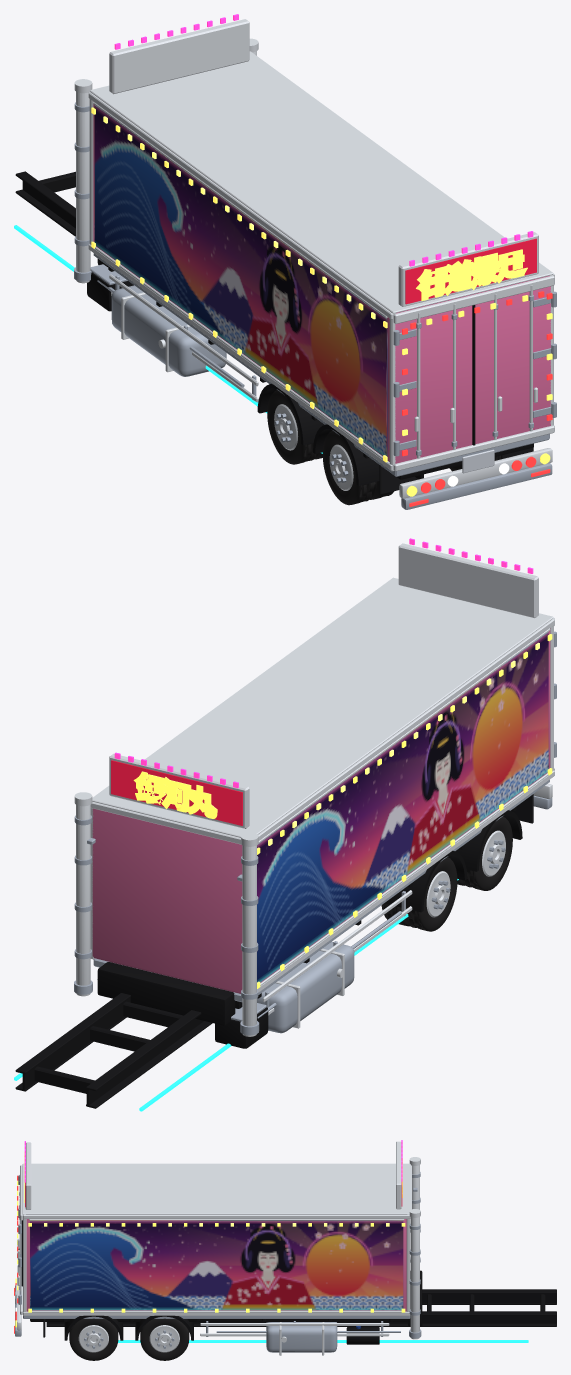
The model's file is body_pinkbox.glb.
The picture shows the model from 3 angles, top to bottom: view 1: azimuth 30°, elevation 25°; view 2: azimuth 150°, elevation 25°; view 3: azimuth 270°, elevation 25°; orthographic projection. The views are drawn at different scales.
Parts seen in each view (by area): view 1: truck_chrome, truck_mural, truck_box_pink, truck_steel, frame_plastic_black, frame_steel, truck_lamp_amber, wheel_r_L_1.5_1.06, wheel_r_L_3.0_1.06, truck_andon_panel, truck_lamp_red, truck_lamp_pink (+2 smaller); view 2: truck_chrome, truck_mural, truck_box_pink, frame_plastic_black, truck_plastic_black, frame_steel, truck_lamp_amber, truck_steel, truck_andon_panel, wheel_r_L_3.0_1.06, wheel_r_L_1.5_1.06, truck_lamp_pink (+1 smaller); view 3: truck_mural, truck_chrome, frame_plastic_black, frame_steel, truck_steel, wheel_r_R_1.5_1.06, wheel_r_R_3.0_1.06, truck_box_pink, frame_lamp_cyan, truck_lamp_amber, truck_plastic_black.
Boxes of the visible parts, left/top/right/bottom form: truck_chrome: left=74, top=19, right=554, bottom=498; truck_mural: left=94, top=105, right=387, bottom=456; truck_box_pink: left=93, top=104, right=550, bottom=463; truck_steel: left=74, top=102, right=556, bottom=509; frame_plastic_black: left=15, top=171, right=533, bottom=485; frame_steel: left=90, top=264, right=244, bottom=387; truck_lamp_amber: left=91, top=107, right=552, bottom=496; wheel_r_L_1.5_1.06: left=322, top=430, right=376, bottom=505; wheel_r_L_3.0_1.06: left=267, top=390, right=318, bottom=464; truck_andon_panel: left=405, top=238, right=536, bottom=304; truck_lamp_red: left=402, top=291, right=552, bottom=506; truck_lamp_pink: left=114, top=14, right=533, bottom=266; truck_chrome: left=74, top=543, right=554, bottom=1036; truck_mural: left=257, top=632, right=548, bottom=982; truck_box_pink: left=92, top=628, right=550, bottom=993; frame_plastic_black: left=15, top=810, right=522, bottom=1108; truck_plastic_black: left=97, top=806, right=516, bottom=1025; frame_steel: left=97, top=911, right=401, bottom=1033; truck_lamp_amber: left=133, top=634, right=552, bottom=988; truck_steel: left=74, top=631, right=556, bottom=1035; truck_andon_panel: left=111, top=760, right=242, bottom=825; wheel_r_L_3.0_1.06: left=405, top=857, right=457, bottom=931; wheel_r_L_1.5_1.06: left=461, top=816, right=512, bottom=890; truck_lamp_pink: left=114, top=538, right=533, bottom=788; truck_mural: left=30, top=1220, right=403, bottom=1310; truck_chrome: left=17, top=1141, right=420, bottom=1339; frame_plastic_black: left=30, top=1289, right=556, bottom=1344; frame_steel: left=216, top=1322, right=400, bottom=1352; truck_steel: left=15, top=1172, right=421, bottom=1338; wheel_r_R_1.5_1.06: left=69, top=1318, right=118, bottom=1360; wheel_r_R_3.0_1.06: left=140, top=1318, right=189, bottom=1360; truck_box_pink: left=26, top=1219, right=406, bottom=1311; frame_lamp_cyan: left=118, top=1340, right=528, bottom=1342; truck_lamp_amber: left=15, top=1152, right=405, bottom=1327; truck_plastic_black: left=21, top=1220, right=422, bottom=1326.
Size of the model in its own units: 2.85 by 4.16 by 11.49.
Materials: 16 (2 with a texture image).
